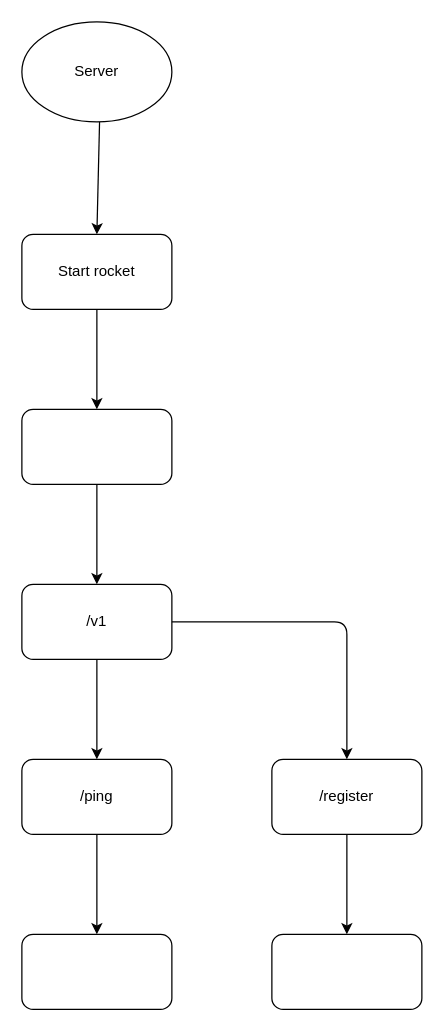
The diagram is 444 pixels wide and 1031 high, and some of its shapes have lost their labels. The shapes that lost their labels are listed below. From the top down, each one's centre as x and y in pixels, then its label:
At (x=96, y=446): "/api".
At (x=96, y=971): "pong".
At (x=346, y=971): "Error || token && server public_key".
